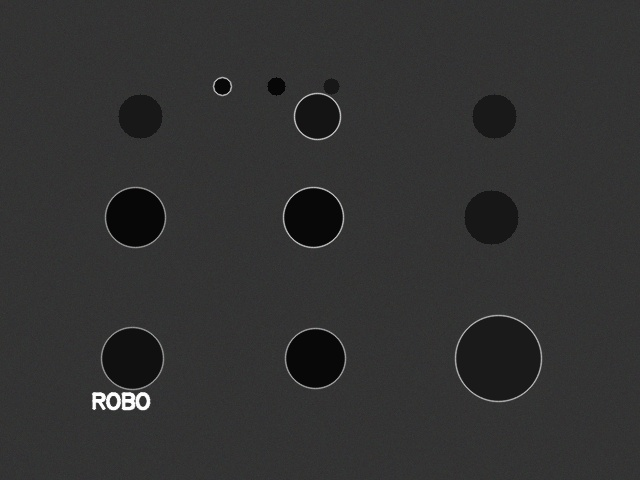hole: (455, 315, 541, 401), (101, 327, 163, 389), (105, 187, 165, 247), (283, 187, 343, 247), (285, 328, 345, 388), (464, 190, 518, 244), (294, 93, 340, 139), (118, 94, 162, 138), (472, 94, 516, 138), (213, 77, 231, 95), (267, 77, 285, 95), (323, 78, 339, 94)
